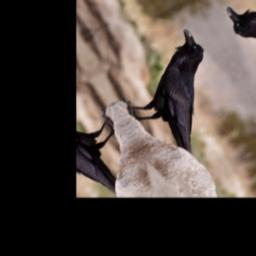Crow: (106, 23, 251, 170)
